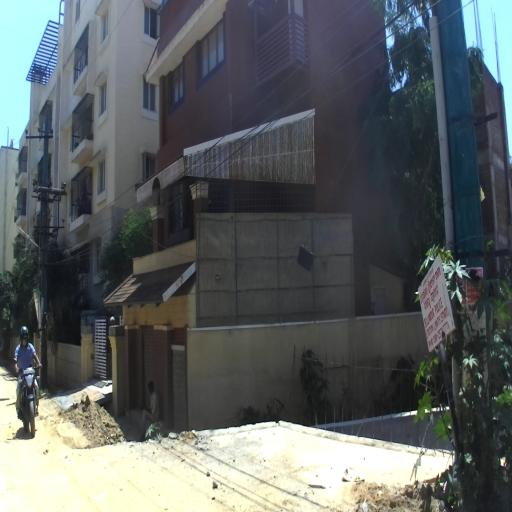street_light_0: (18, 228, 41, 249)
